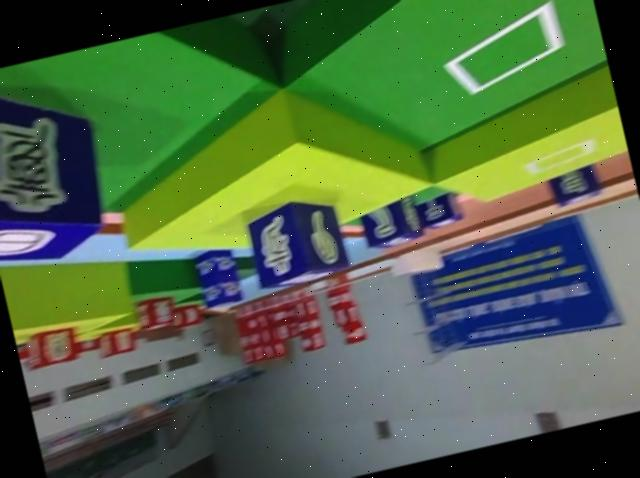R2 Fake Blue: (0, 59, 118, 273), (244, 190, 353, 295), (355, 193, 428, 257), (419, 188, 464, 233)
